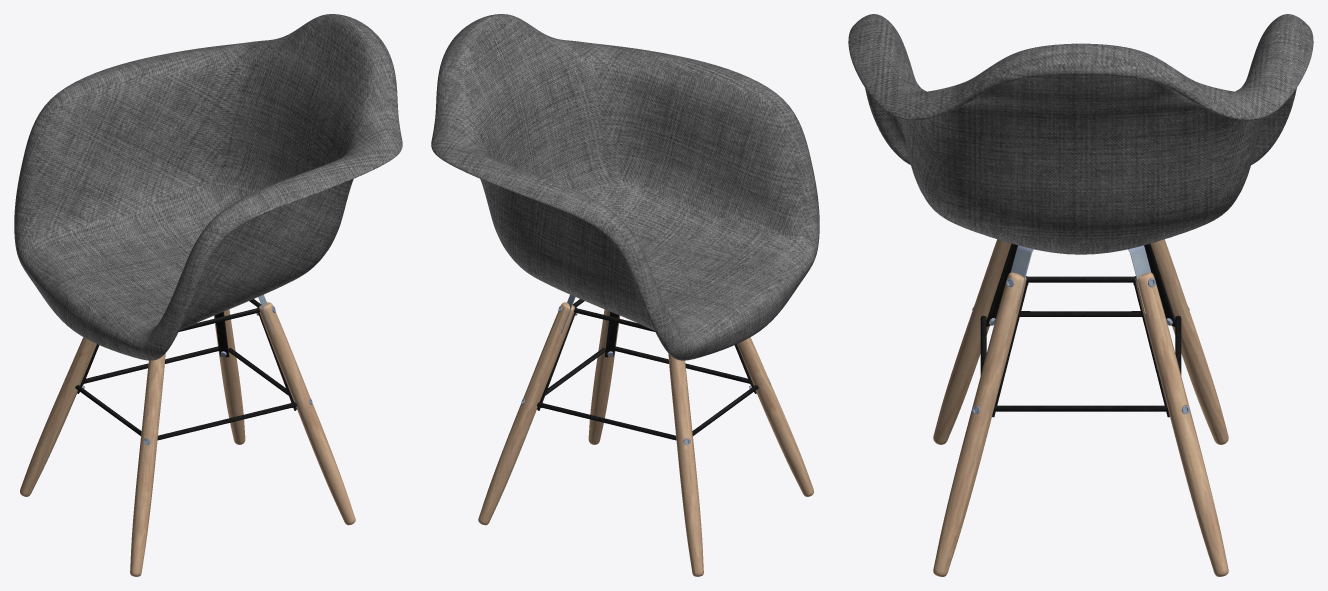
3 renders of one model, left to right at view 1: azimuth 30°, elevation 25°; view 2: azimuth 150°, elevation 25°; view 3: azimuth 270°, elevation 25°, orthographic. The views are drawn at different scales.
Visible parts, largest first — view 1: fauteuil scandi_tissu 2_0, fauteuil scandi_oak_0, fauteuil scandi_Noir amt_0; view 2: fauteuil scandi_tissu 2_0, fauteuil scandi_oak_0, fauteuil scandi_Noir amt_0; view 3: fauteuil scandi_tissu 2_0, fauteuil scandi_oak_0, fauteuil scandi_Noir amt_0, fauteuil scandi_chrome mat_0.
Boxes of the visible parts, box(x1,y1,x2,y2) form: fauteuil scandi_tissu 2_0: box(14, 14, 402, 360); fauteuil scandi_oak_0: box(20, 302, 355, 576); fauteuil scandi_Noir amt_0: box(75, 299, 296, 440); fauteuil scandi_tissu 2_0: box(431, 14, 819, 360); fauteuil scandi_oak_0: box(478, 302, 813, 576); fauteuil scandi_Noir amt_0: box(537, 299, 758, 440); fauteuil scandi_tissu 2_0: box(848, 14, 1313, 254); fauteuil scandi_oak_0: box(933, 239, 1228, 576); fauteuil scandi_Noir amt_0: box(980, 243, 1181, 417); fauteuil scandi_chrome mat_0: box(972, 245, 1189, 414).
Size of the model in its own units: 0.6229 by 0.8793 by 0.6515.
Materials: 4 (4 with a texture image).
